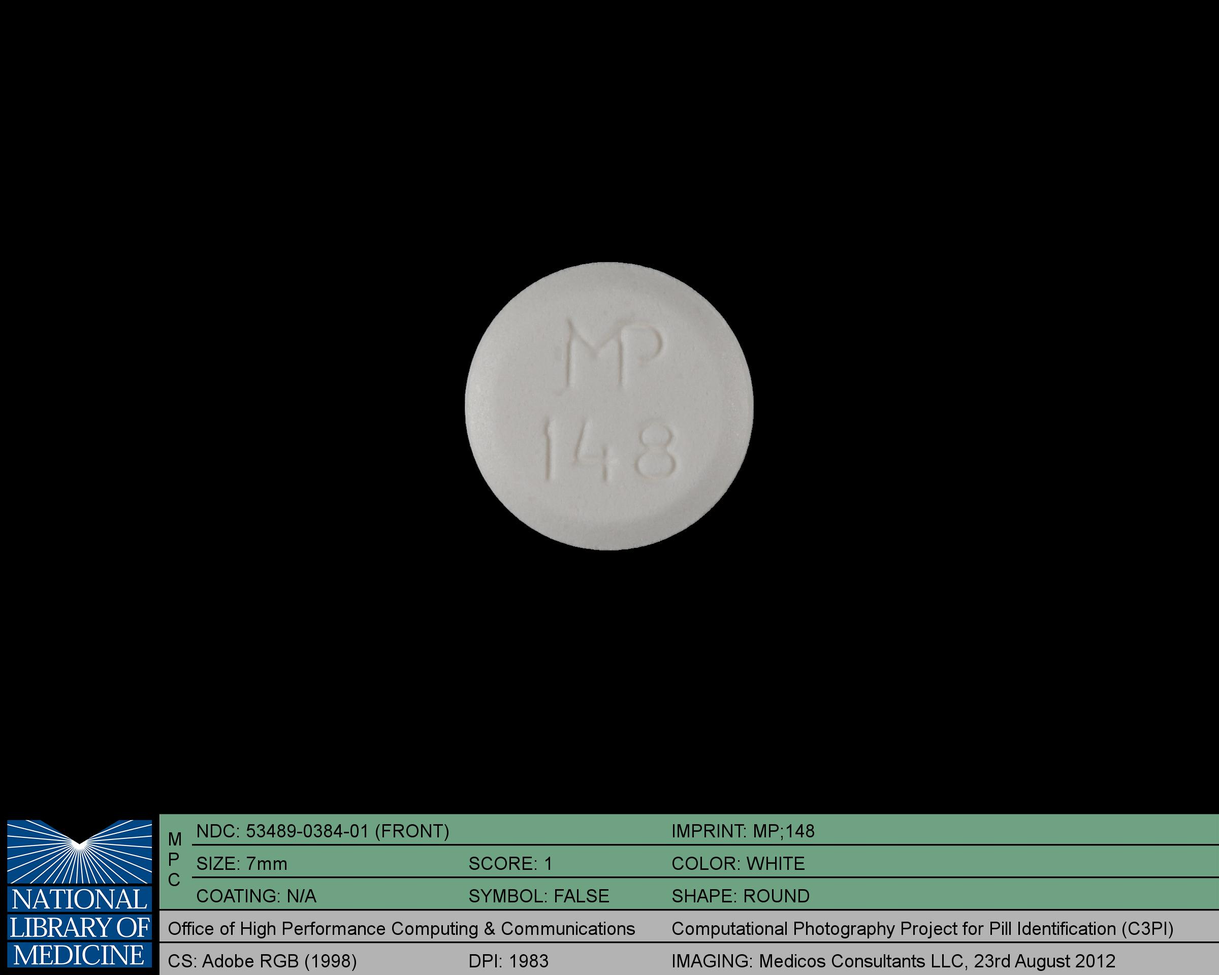Pill: (450, 251, 769, 560)
